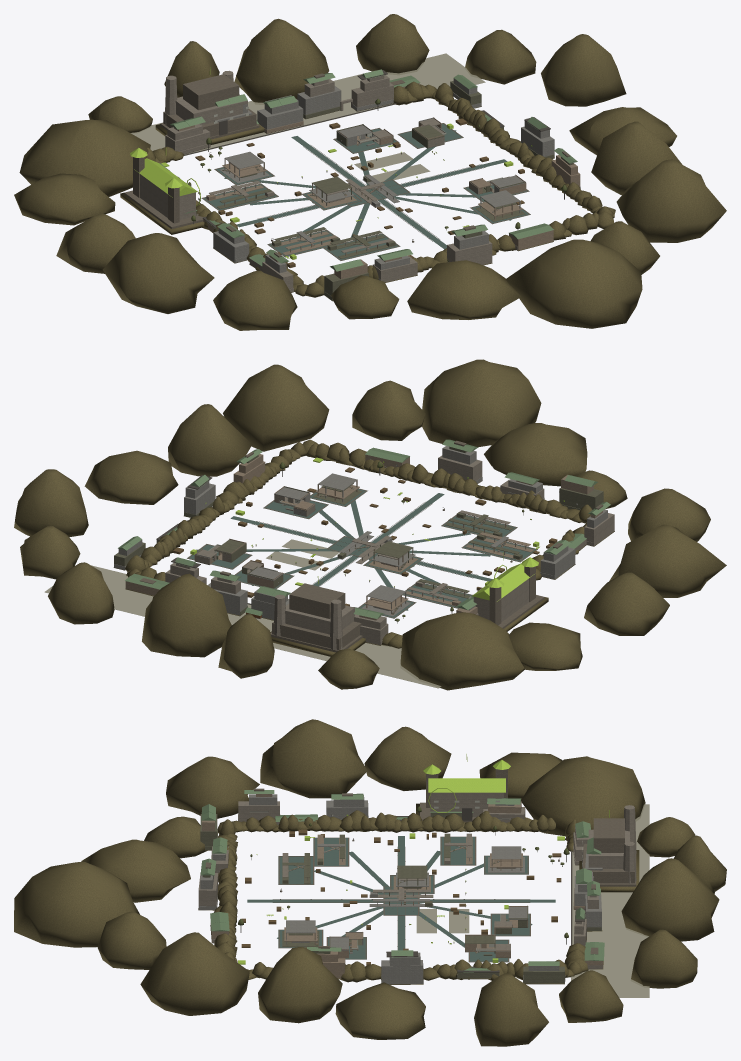
The model's file is tanada-lod1.glb.
The picture shows the model from 3 angles, top to bottom: view 1: azimuth 30°, elevation 25°; view 2: azimuth 150°, elevation 25°; view 3: azimuth 270°, elevation 25°; orthographic projection.
Visible parts, largest first — view 1: HB_tanada_LOD1_terrain, HB_tanada_LOD1_wall_cool, HB_tanada_LOD1_road, HB_tanada_LOD1_wall, HB_tanada_LOD1_water, HB_tanada_LOD1_wall_warm, HB_tanada_LOD1_wall_weathered, HB_tanada_LOD1_roof, HB_tanada_LOD1_LANDMARK_0_wall_alt, HB_tanada_LOD1_wall_alt, HB_tanada_LOD1_LANDMARK_0_wall, HB_tanada_LOD1_LANDMARK_1_wall_alt (+5 smaller); view 2: HB_tanada_LOD1_terrain, HB_tanada_LOD1_wall_cool, HB_tanada_LOD1_road, HB_tanada_LOD1_wall, HB_tanada_LOD1_wall_weathered, HB_tanada_LOD1_wall_warm, HB_tanada_LOD1_water, HB_tanada_LOD1_roof, HB_tanada_LOD1_LANDMARK_0_wall_alt, HB_tanada_LOD1_LANDMARK_0_wall, HB_tanada_LOD1_wall_alt, HB_tanada_LOD1_obstacle (+3 smaller); view 3: HB_tanada_LOD1_terrain, HB_tanada_LOD1_road, HB_tanada_LOD1_wall_cool, HB_tanada_LOD1_water, HB_tanada_LOD1_wall, HB_tanada_LOD1_wall_weathered, HB_tanada_LOD1_roof, HB_tanada_LOD1_wall_warm, HB_tanada_LOD1_wall_alt, HB_tanada_LOD1_LANDMARK_0_wall_alt, HB_tanada_LOD1_LANDMARK_1_accent, HB_tanada_LOD1_LANDMARK_0_wall (+4 smaller).
Part boxes in pixels (box(x1,y1,x2,y2)): HB_tanada_LOD1_terrain: box(14, 14, 726, 330); HB_tanada_LOD1_wall_cool: box(213, 78, 580, 280); HB_tanada_LOD1_road: box(201, 123, 530, 260); HB_tanada_LOD1_wall: box(165, 75, 523, 292); HB_tanada_LOD1_water: box(130, 53, 485, 182); HB_tanada_LOD1_wall_warm: box(174, 83, 580, 279); HB_tanada_LOD1_wall_weathered: box(196, 81, 573, 300); HB_tanada_LOD1_roof: box(159, 69, 577, 271); HB_tanada_LOD1_LANDMARK_0_wall_alt: box(160, 74, 259, 139); HB_tanada_LOD1_wall_alt: box(202, 73, 570, 260); HB_tanada_LOD1_LANDMARK_0_wall: box(165, 70, 247, 125); HB_tanada_LOD1_LANDMARK_1_wall_alt: box(124, 157, 203, 228); HB_tanada_LOD1_terrain: box(14, 359, 726, 690); HB_tanada_LOD1_wall_cool: box(114, 446, 607, 620); HB_tanada_LOD1_road: box(188, 489, 536, 618); HB_tanada_LOD1_wall: box(165, 455, 614, 645); HB_tanada_LOD1_wall_weathered: box(114, 446, 603, 615); HB_tanada_LOD1_wall_warm: box(125, 454, 602, 620); HB_tanada_LOD1_water: box(44, 539, 441, 688); HB_tanada_LOD1_roof: box(118, 439, 610, 618); HB_tanada_LOD1_LANDMARK_0_wall_alt: box(270, 583, 362, 652); HB_tanada_LOD1_LANDMARK_0_wall: box(274, 594, 354, 649); HB_tanada_LOD1_wall_alt: box(140, 440, 603, 618); HB_tanada_LOD1_obstacle: box(173, 467, 557, 606); HB_tanada_LOD1_terrain: box(14, 719, 726, 1046); HB_tanada_LOD1_road: box(247, 836, 555, 961); HB_tanada_LOD1_wall_cool: box(198, 794, 602, 984); HB_tanada_LOD1_water: box(416, 804, 649, 997); HB_tanada_LOD1_wall: box(198, 801, 602, 968); HB_tanada_LOD1_wall_weathered: box(200, 812, 601, 983); HB_tanada_LOD1_roof: box(200, 790, 604, 972); HB_tanada_LOD1_wall_warm: box(202, 794, 603, 978); HB_tanada_LOD1_wall_alt: box(205, 788, 598, 962); HB_tanada_LOD1_LANDMARK_0_wall_alt: box(582, 818, 636, 886); HB_tanada_LOD1_LANDMARK_1_accent: box(423, 754, 510, 812); HB_tanada_LOD1_LANDMARK_0_wall: box(588, 805, 636, 883).
Size of the model in its own units: 634 by 66 by 652.
Materials: 15 (13 with a texture image).
